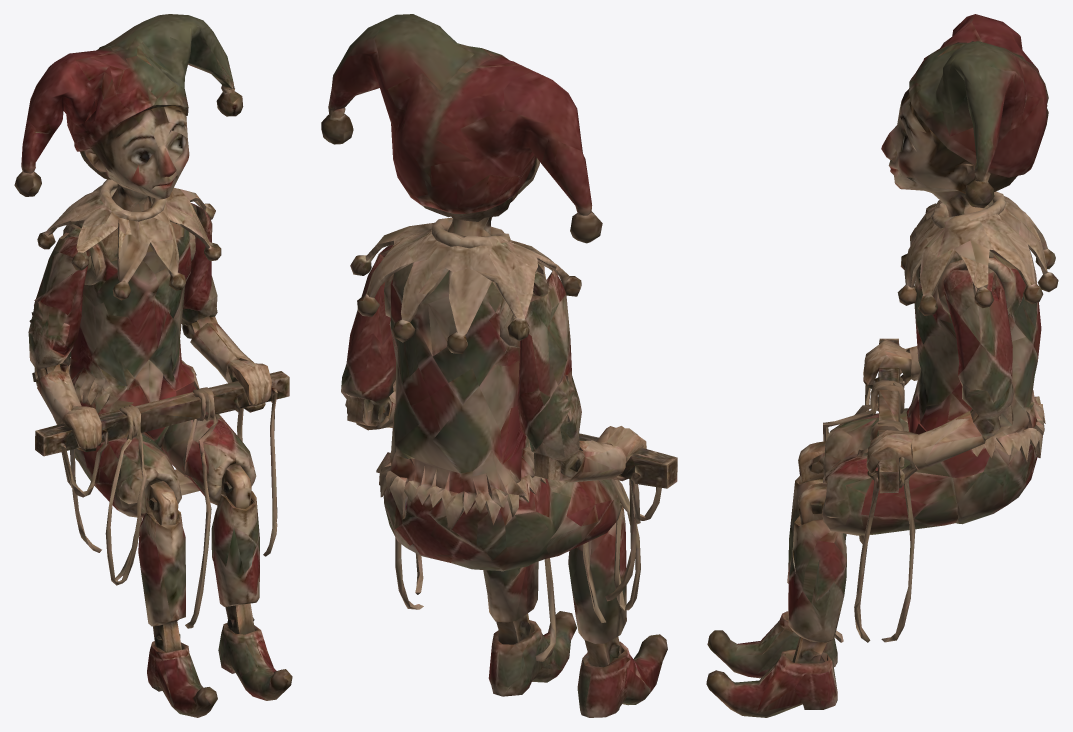
Rendered from up_marionette_jester.glb.
3 renders of one model, left to right at view 1: azimuth 30°, elevation 25°; view 2: azimuth 150°, elevation 25°; view 3: azimuth 270°, elevation 25°, orthographic. The views are drawn at different scales.
Visible parts, largest first — view 1: up_marionette_jester; view 2: up_marionette_jester; view 3: up_marionette_jester.
Boxes of the visible parts, <box> form: up_marionette_jester: <box>14,14,292,717</box>; up_marionette_jester: <box>321,14,677,717</box>; up_marionette_jester: <box>706,14,1058,717</box>.
Bounding box in the file's own units: 0.2643 × 0.62 × 0.295.
Materials: 1 (1 with a texture image).
